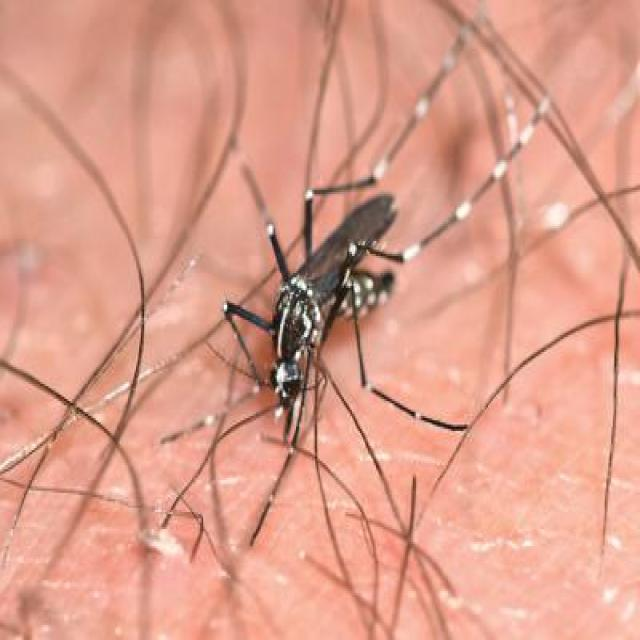body: (272, 264, 391, 406)
insect: (227, 27, 537, 525)
legs: (262, 289, 466, 513), (346, 29, 530, 276), (221, 148, 349, 330)
wings: (293, 192, 395, 302)
